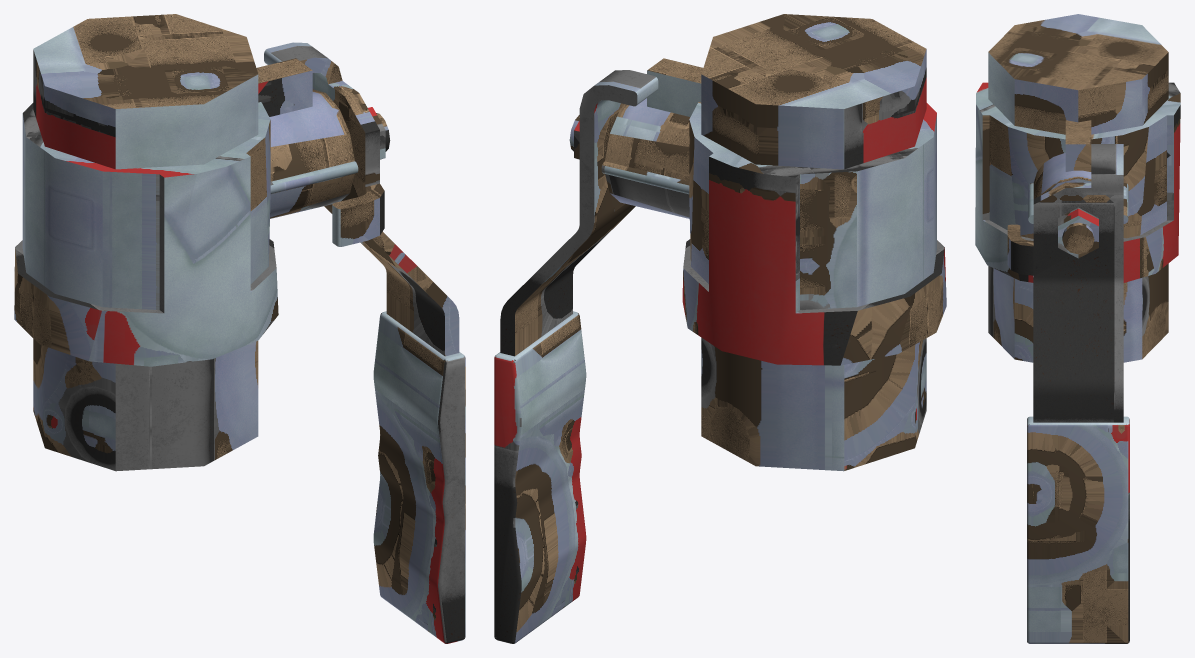
Rendered from Ball Valve.fbx.
3 views of the same model, side by side, from view 1: azimuth 30°, elevation 25°; view 2: azimuth 150°, elevation 25°; view 3: azimuth 270°, elevation 25° (orthographic). The views are drawn at different scales.
Visible parts, largest first — view 1: Budy, Hand; view 2: Budy, Hand; view 3: Hand, Budy.
Boxes of the visible parts, left/top/right/bottom form: Budy: left=14, top=14, right=358, bottom=471; Hand: left=264, top=42, right=465, bottom=643; Budy: left=601, top=14, right=946, bottom=471; Hand: left=494, top=70, right=658, bottom=643; Hand: left=1007, top=144, right=1129, bottom=643; Budy: left=975, top=14, right=1180, bottom=362.
Size of the model in its own units: 10.93 by 16.21 by 6.24.
Materials: 1 (1 with a texture image).
